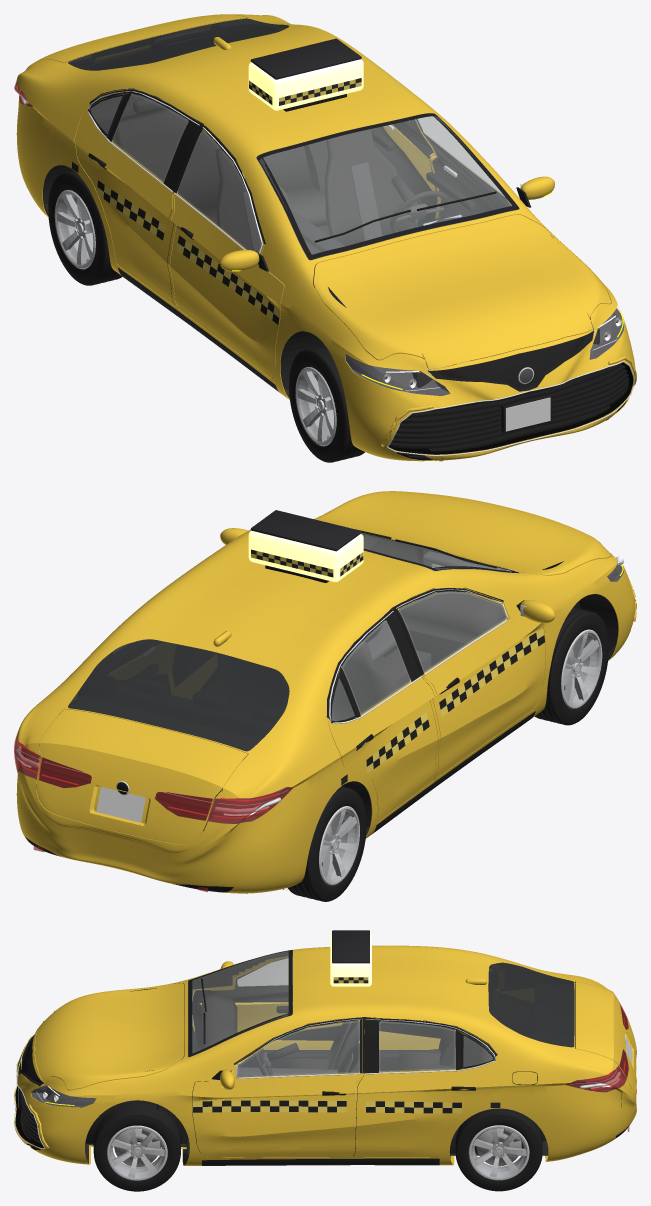
The model's file is taxiCheckered-lod0.glb.
3 renders of one model, top to bottom at view 1: azimuth 30°, elevation 25°; view 2: azimuth 150°, elevation 25°; view 3: azimuth 270°, elevation 25°, orthographic. The views are drawn at different scales.
Parts seen in each view (by area): view 1: Body, HoodSkin, Windscreen, Panel_FR, Panel_RR, Grille_Lower_Grille, SeatMesh_Rear_Back, Seat_FL_Back, Window_FR, RearWindow, Window_RR, GrilleBar_Housing (+25 smaller); view 2: Body, TrunkSkin, RearWindow, HoodSkin, Panel_FR, Panel_RR, Window_FR, Dash, Window_RR, Wheel_FR_Tyre, Wheel_RR_Tyre, TaxiSign (+24 smaller); view 3: Body, HoodSkin, Panel_FL, Panel_RL, Windscreen, RearWindow, Window_FL, Panel_FR, Wheel_FL_Tyre, TrunkSkin, Window_RL, Wheel_RL_Tyre (+27 smaller).
Part boxes in pixels (bbox=[...]): Body: bbox=[16, 14, 635, 461]; HoodSkin: bbox=[314, 214, 610, 370]; Windscreen: bbox=[256, 113, 519, 259]; Panel_FR: bbox=[170, 125, 284, 378]; Panel_RR: bbox=[74, 89, 201, 305]; Grille_Lower_Grille: bbox=[389, 363, 629, 451]; SeatMesh_Rear_Back: bbox=[115, 107, 312, 211]; Seat_FL_Back: bbox=[325, 129, 411, 246]; Window_FR: bbox=[177, 131, 261, 252]; RearWindow: bbox=[68, 18, 289, 70]; Window_RR: bbox=[112, 94, 188, 181]; GrilleBar_Housing: bbox=[428, 331, 593, 391]; Body: bbox=[16, 530, 635, 893]; TrunkSkin: bbox=[36, 709, 247, 844]; RearWindow: bbox=[68, 639, 289, 751]; HoodSkin: bbox=[314, 491, 610, 575]; Panel_FR: bbox=[394, 587, 545, 776]; Panel_RR: bbox=[327, 609, 438, 822]; Window_FR: bbox=[399, 591, 505, 672]; Dash: bbox=[382, 591, 505, 643]; Window_RR: bbox=[342, 620, 410, 714]; Wheel_FR_Tyre: bbox=[535, 607, 608, 725]; Wheel_RR_Tyre: bbox=[288, 786, 366, 901]; TaxiSign: bbox=[248, 530, 363, 581]; Body: bbox=[14, 945, 636, 1165]; HoodSkin: bbox=[32, 983, 183, 1090]; Panel_FL: bbox=[192, 1017, 362, 1157]; Panel_RL: bbox=[353, 1017, 500, 1156]; Windscreen: bbox=[188, 950, 292, 1056]; RearWindow: bbox=[488, 962, 574, 1047]; Window_FL: bbox=[237, 1021, 359, 1077]; Panel_FR: bbox=[192, 957, 342, 1049]; Wheel_FL_Tyre: bbox=[93, 1103, 180, 1191]; TrunkSkin: bbox=[576, 981, 636, 1090]; Window_RL: bbox=[379, 1021, 455, 1071]; Wheel_RL_Tyre: bbox=[455, 1108, 542, 1191].
Size of the model in its own units: 2.29 by 1.73 by 4.93.
